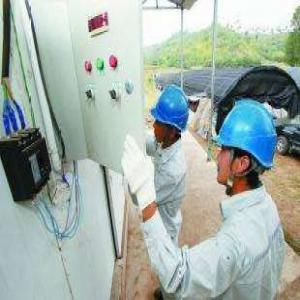blue: (215, 99, 278, 196), (151, 84, 189, 147)
